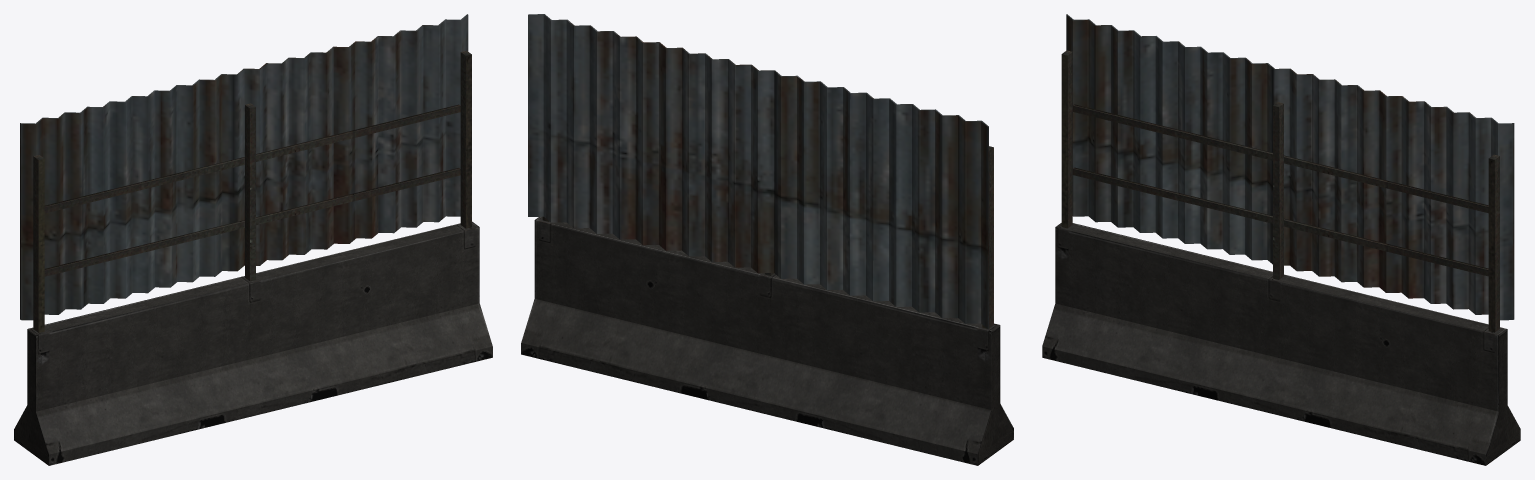
The model's file is barricade_b_4.obj.
The picture shows the model from 3 angles, left to right: view 1: azimuth 30°, elevation 25°; view 2: azimuth 150°, elevation 25°; view 3: azimuth 330°, elevation 25°; orthographic projection. The views are drawn at different scales.
Parts seen in each view (by area): view 1: barricade_b_4; view 2: barricade_b_4; view 3: barricade_b_4.
Boxes of the visible parts, <box> form: barricade_b_4: <box>14,14,492,465</box>; barricade_b_4: <box>521,14,1013,465</box>; barricade_b_4: <box>1042,14,1520,465</box>.
Bounding box in the file's own units: 2.96 × 2.05 × 0.4.
